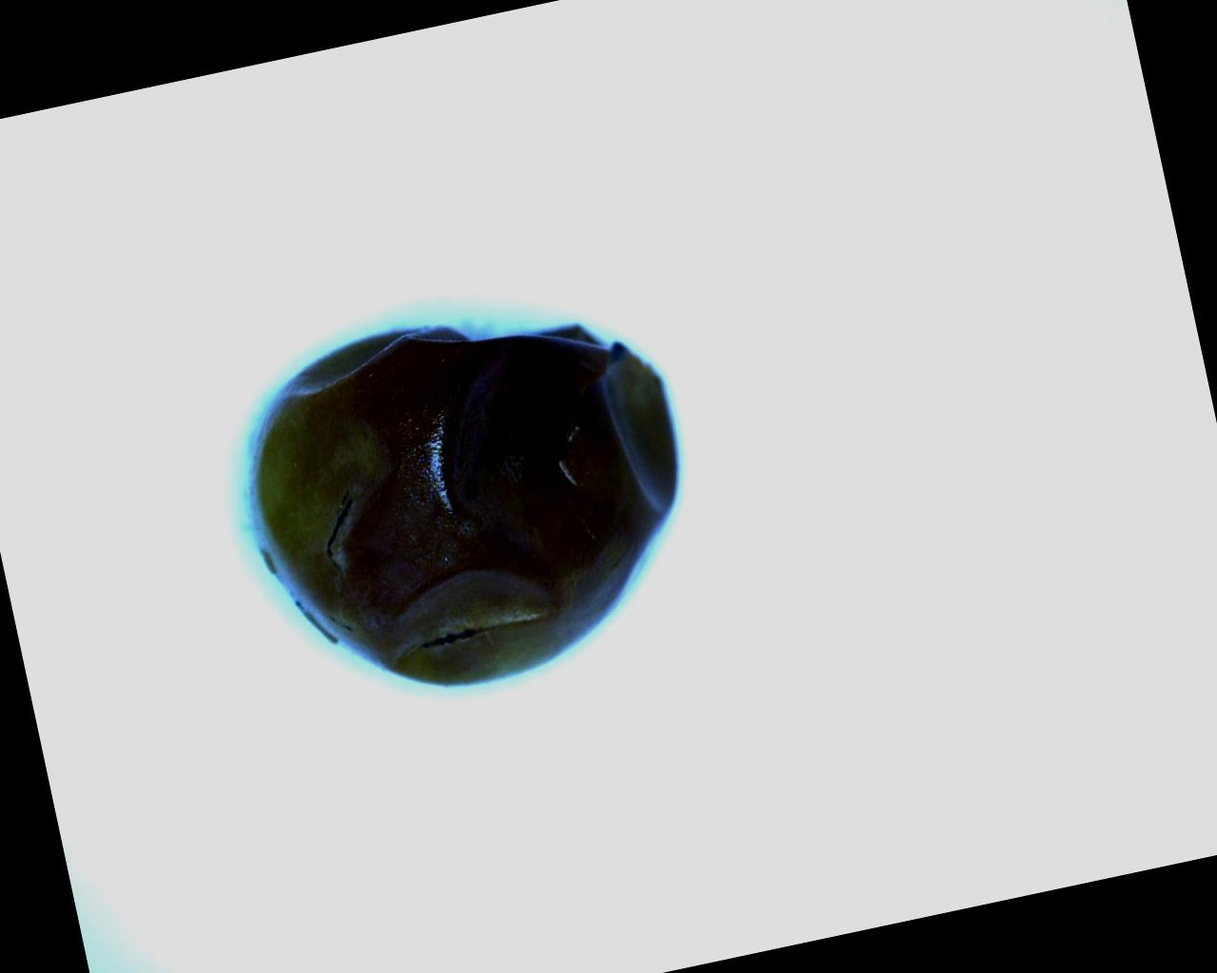Grape Rotten: (214, 273, 721, 725)
